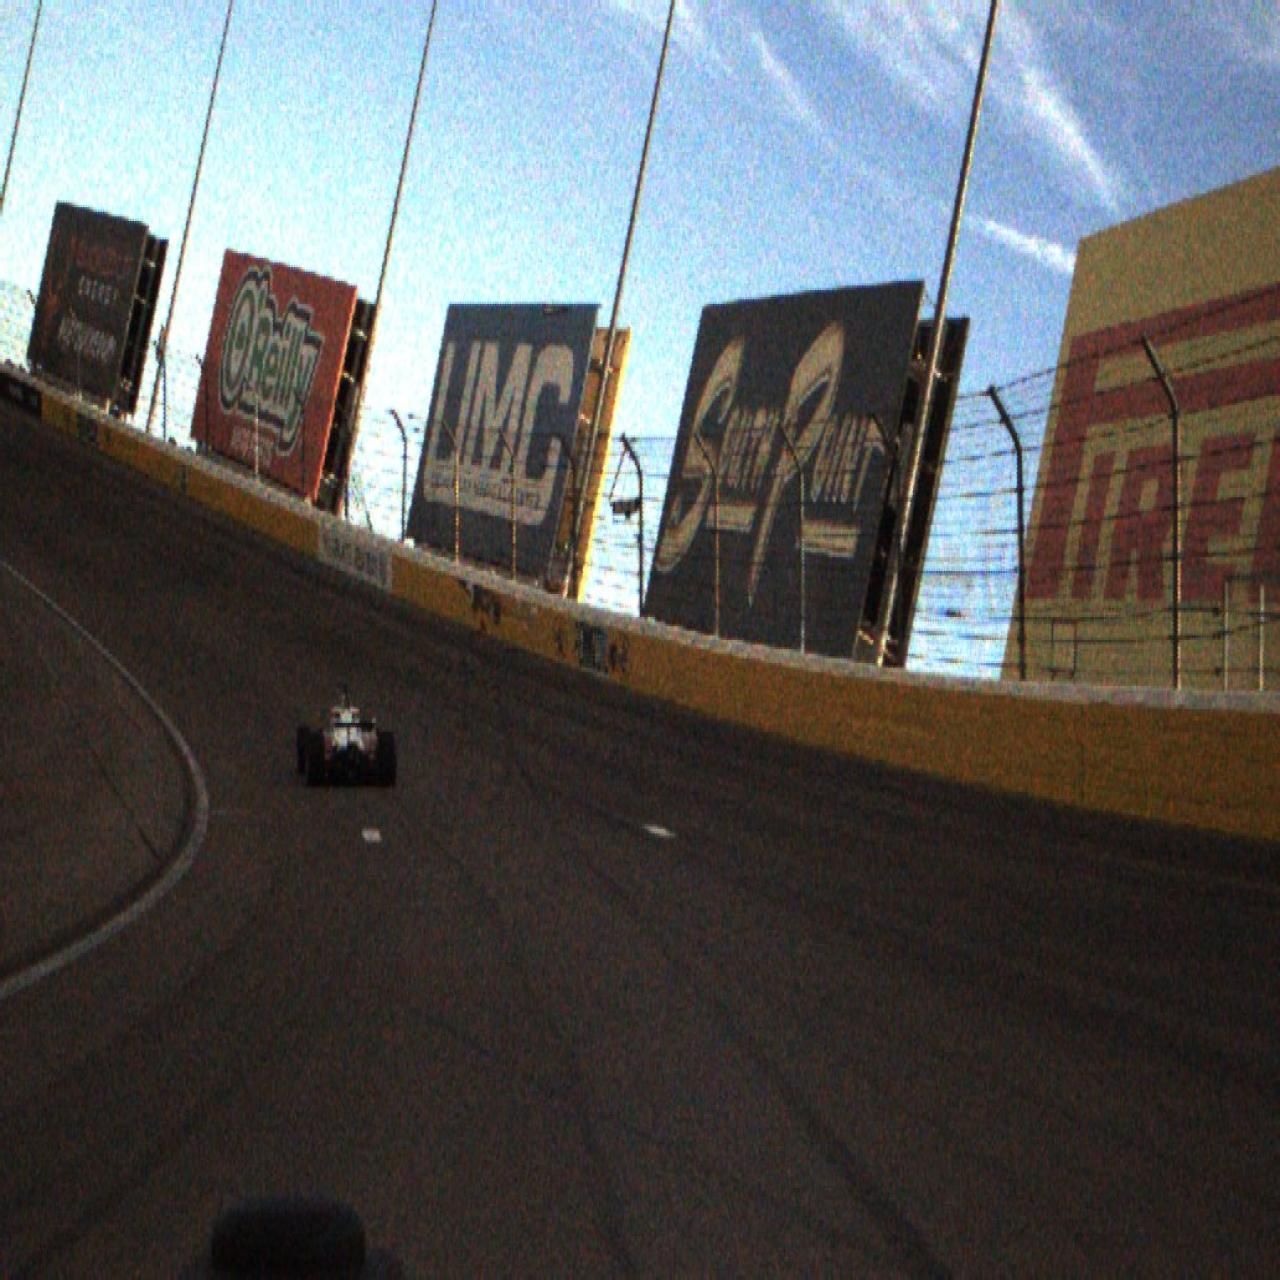AV: (295, 679, 397, 789)
Wheel: (379, 730, 397, 789), (307, 731, 325, 788), (295, 724, 311, 778)
